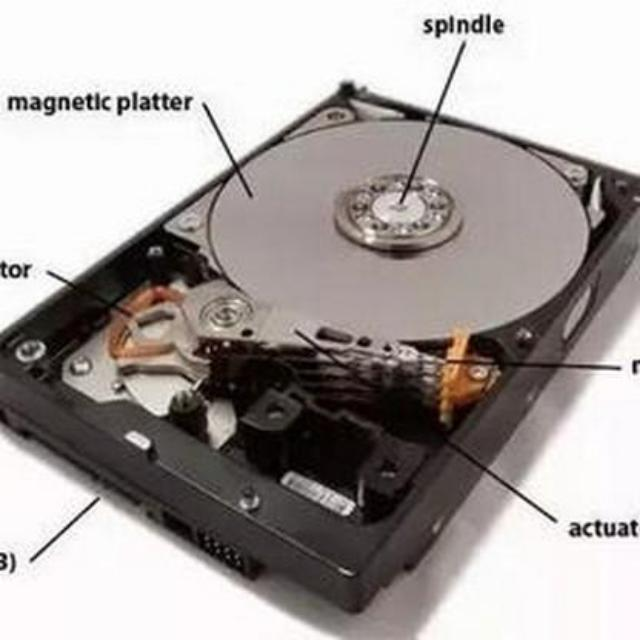DISK: (7, 79, 638, 613)
